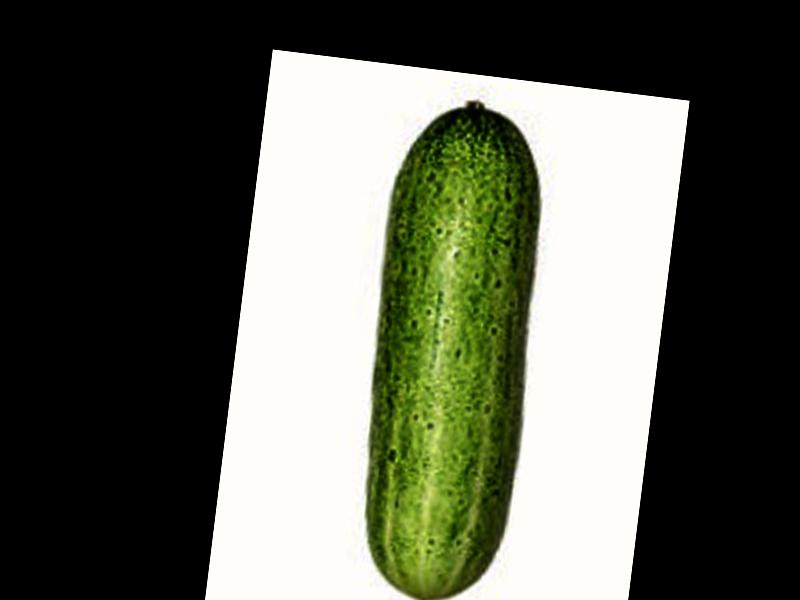Cucumber: (344, 92, 556, 600)
